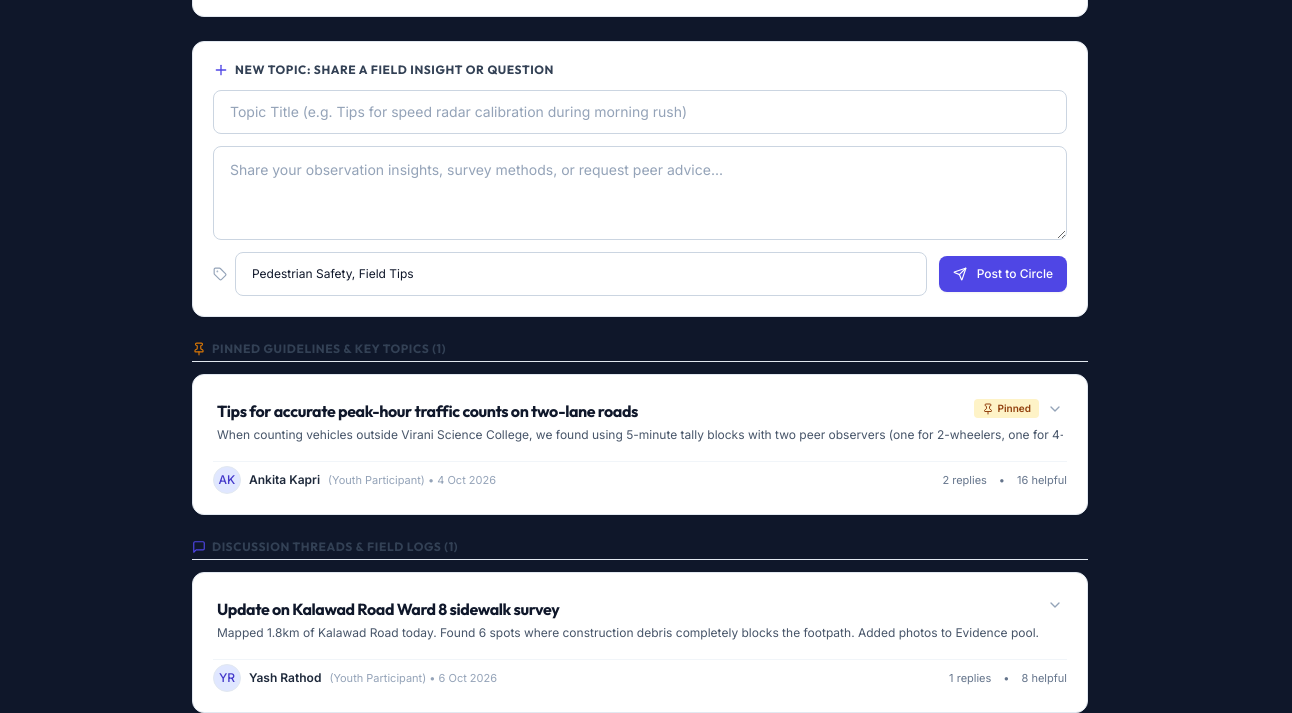
Test: V2 Section 5 & 14 Title-First Browsing Integration Tests › CommunityGroupDetailPage Title-First Browsing › uses category headings (pinned & discussion threads) and reveals details on click
This screenshot has width=1292, height=713.
(page scrolled)
Expected: the heading "Pinned Guidelines & Key Topics (1)" is shown, [192,341,1088,362]
Expected: the heading "Discussion Threads & Field Logs (1)" is shown, [192,539,1088,560]
What coordinates should you click on to do the following:
click the button "Update on Kalawad Road Ward 8 sidewalk survey"
I would click on:
 (388, 609)
Its box is [213,593,1067,645].
(page scrolled)
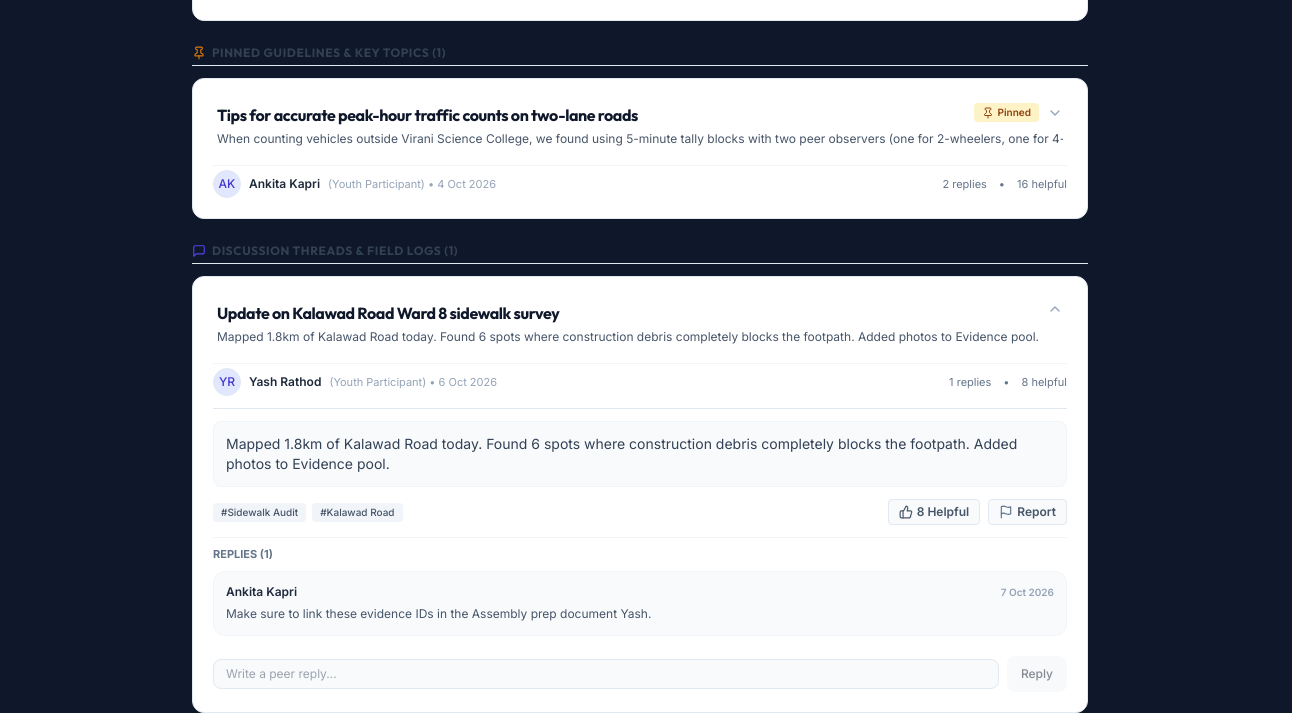
Expected: the text "Replies (1)" is shown, [213,547,273,561]
Expected: the text "Make sure to link these evidence IDs" is shown, [226,606,651,621]
Expected: the text "Mapped 1.8km of Kalawad Road today" is shown 2 times, [217,329,1063,345]; [213,421,1067,487]
